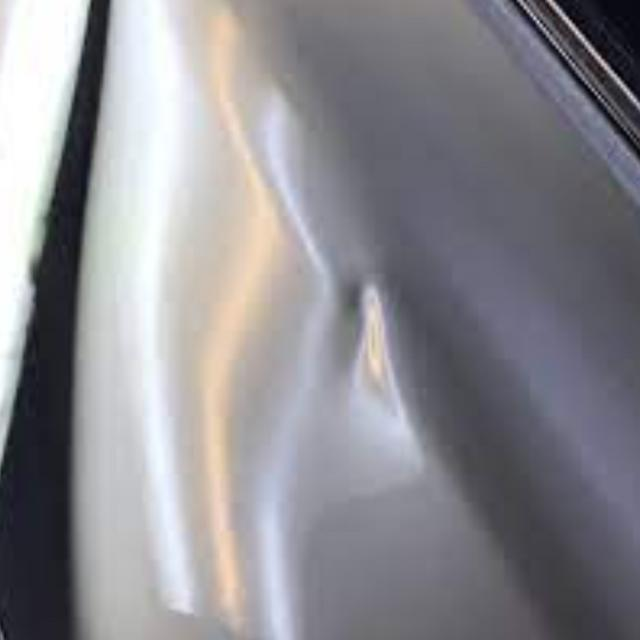dents: (315, 247, 430, 517)
